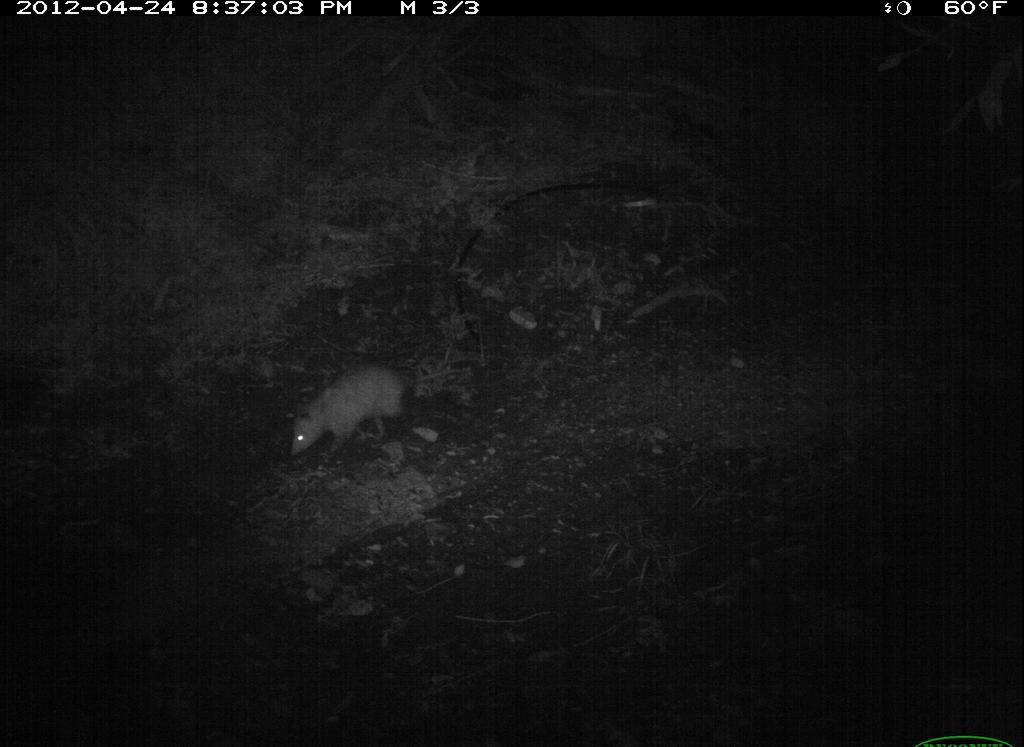opossum: (286, 355, 484, 463)
